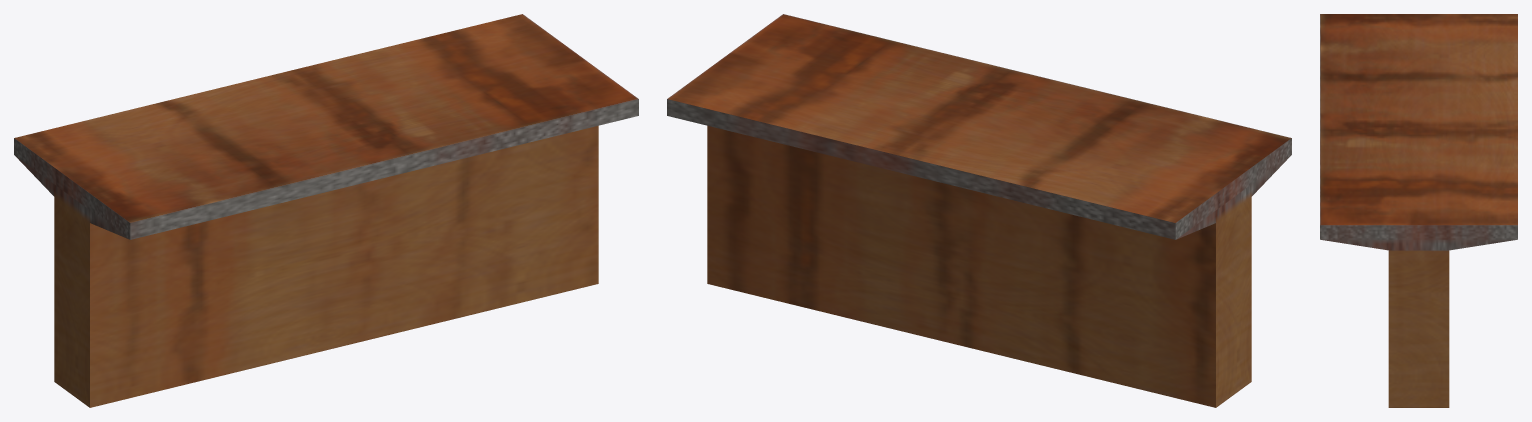
File: balcao.fbx
The picture shows the model from 3 angles, left to right: view 1: azimuth 30°, elevation 25°; view 2: azimuth 150°, elevation 25°; view 3: azimuth 270°, elevation 25°; orthographic projection. The views are drawn at different scales.
Visible parts, largest first — view 1: Cube; view 2: Cube; view 3: Cube.
Part boxes in pixels (left/top/right/bottom): Cube: left=14, top=14, right=638, bottom=407; Cube: left=667, top=14, right=1291, bottom=407; Cube: left=1320, top=14, right=1517, bottom=407.
Bounding box in the file's own units: 310 × 125 × 123.
1 material, 1 textured.
